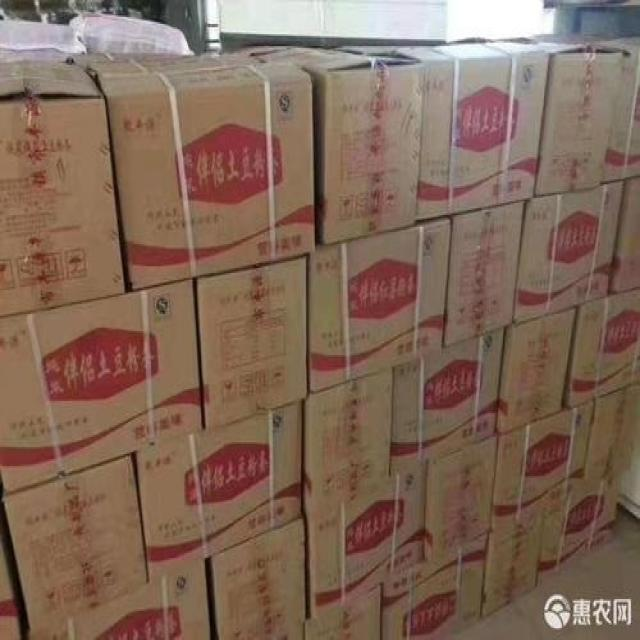box: (72, 53, 315, 292), (0, 278, 204, 495), (334, 39, 552, 222), (239, 46, 424, 246), (1, 61, 125, 317), (132, 401, 303, 582), (308, 215, 451, 398), (1, 454, 148, 631), (193, 254, 308, 430), (303, 466, 429, 620), (506, 38, 628, 196), (393, 326, 506, 481), (513, 179, 623, 324), (28, 558, 212, 640), (492, 399, 595, 536), (305, 367, 394, 515), (206, 515, 306, 640), (443, 200, 525, 346), (380, 536, 489, 640), (495, 304, 579, 437), (424, 432, 500, 563), (563, 288, 640, 410), (538, 473, 617, 580), (483, 503, 545, 620), (598, 34, 639, 184), (584, 382, 639, 480), (303, 584, 381, 638), (0, 495, 28, 640), (609, 176, 639, 294), (268, 620, 306, 640)
